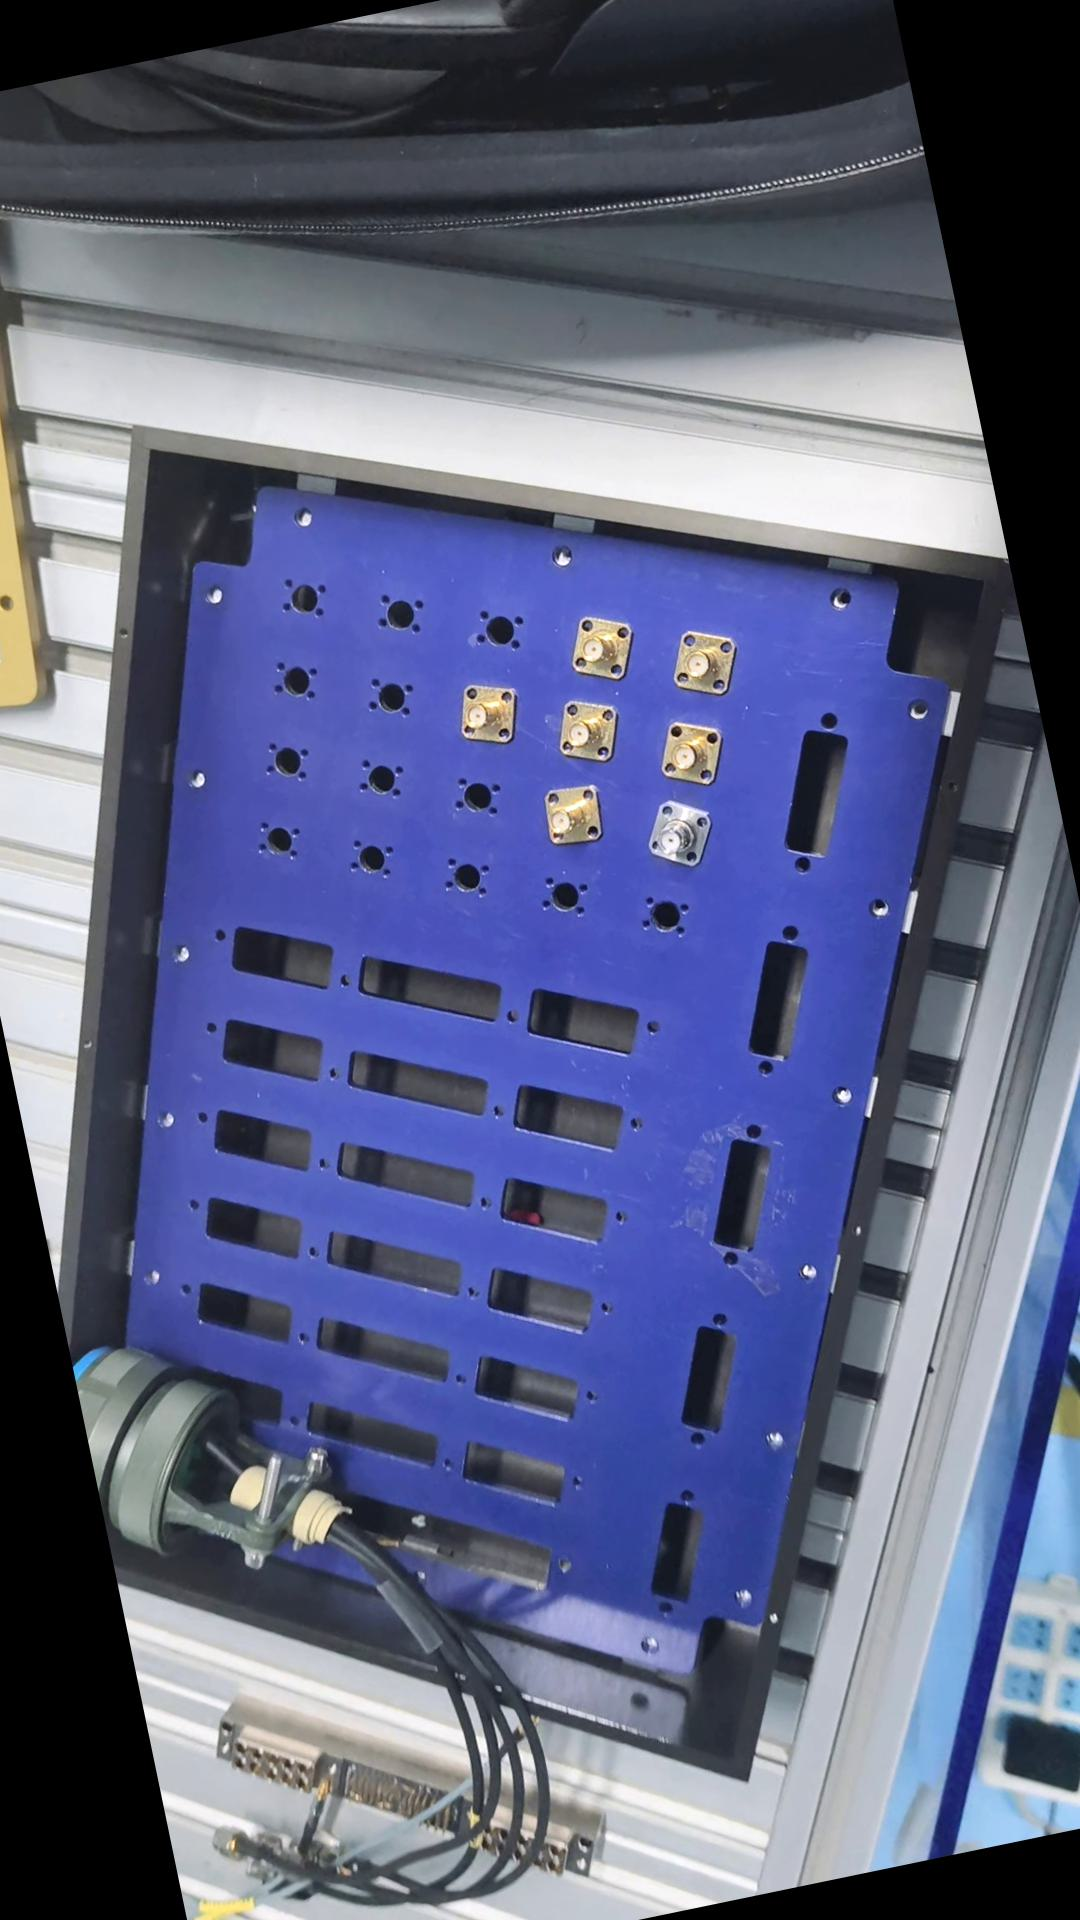SMA: (556, 603, 640, 691), (632, 790, 712, 874), (547, 688, 630, 765), (662, 624, 741, 702), (649, 719, 727, 793), (448, 676, 520, 756), (531, 785, 605, 851)
